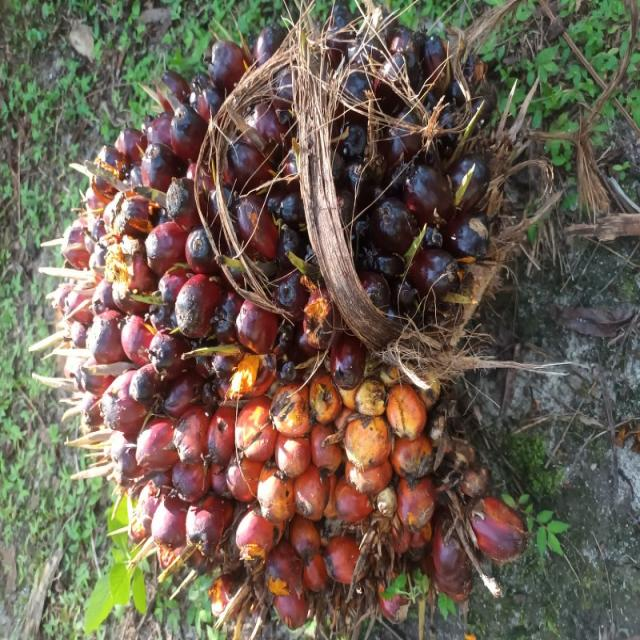fraksi 1: (13, 89, 480, 640)
